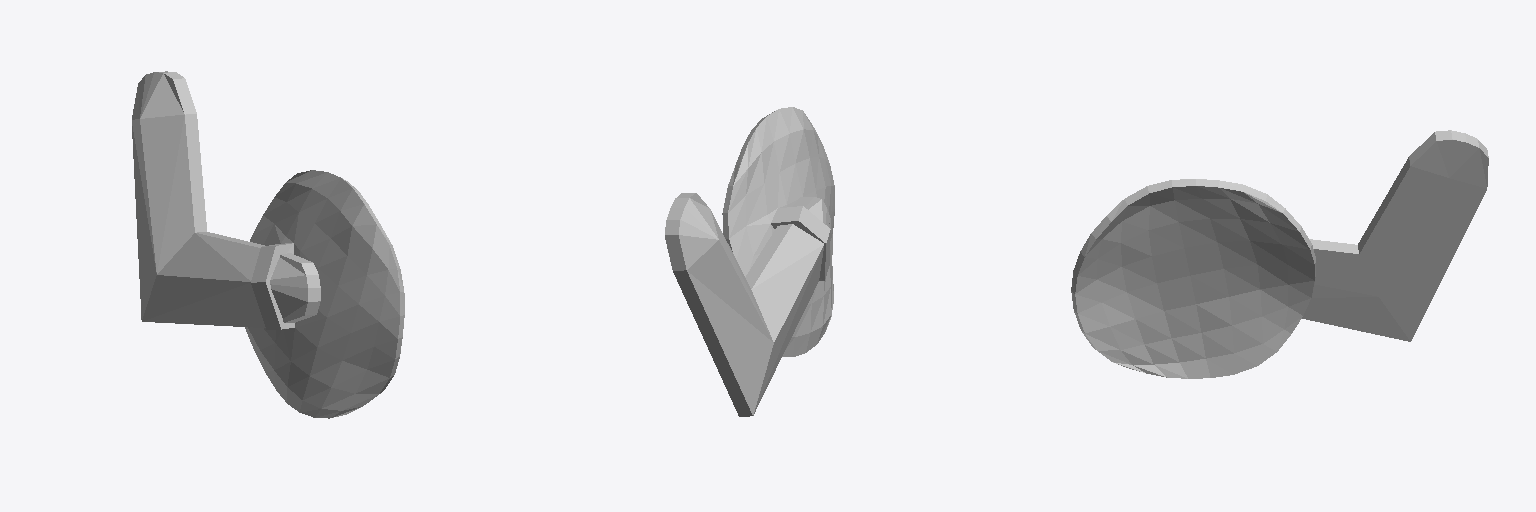
File: Monkey_Der.obj
3 renders of one model, left to right at view 1: azimuth 30°, elevation 25°; view 2: azimuth 150°, elevation 25°; view 3: azimuth 270°, elevation 25°, orthographic.
Parts seen in each view (by area): view 1: polySurface2; view 2: polySurface2; view 3: polySurface2.
Boxes of the visible parts, box(x1,y1,x2,y2) form: polySurface2: box(132, 71, 404, 418); polySurface2: box(665, 107, 834, 416); polySurface2: box(1071, 130, 1488, 378).
Bounding box in the file's own units: 3.37 × 7.5 × 11.6.